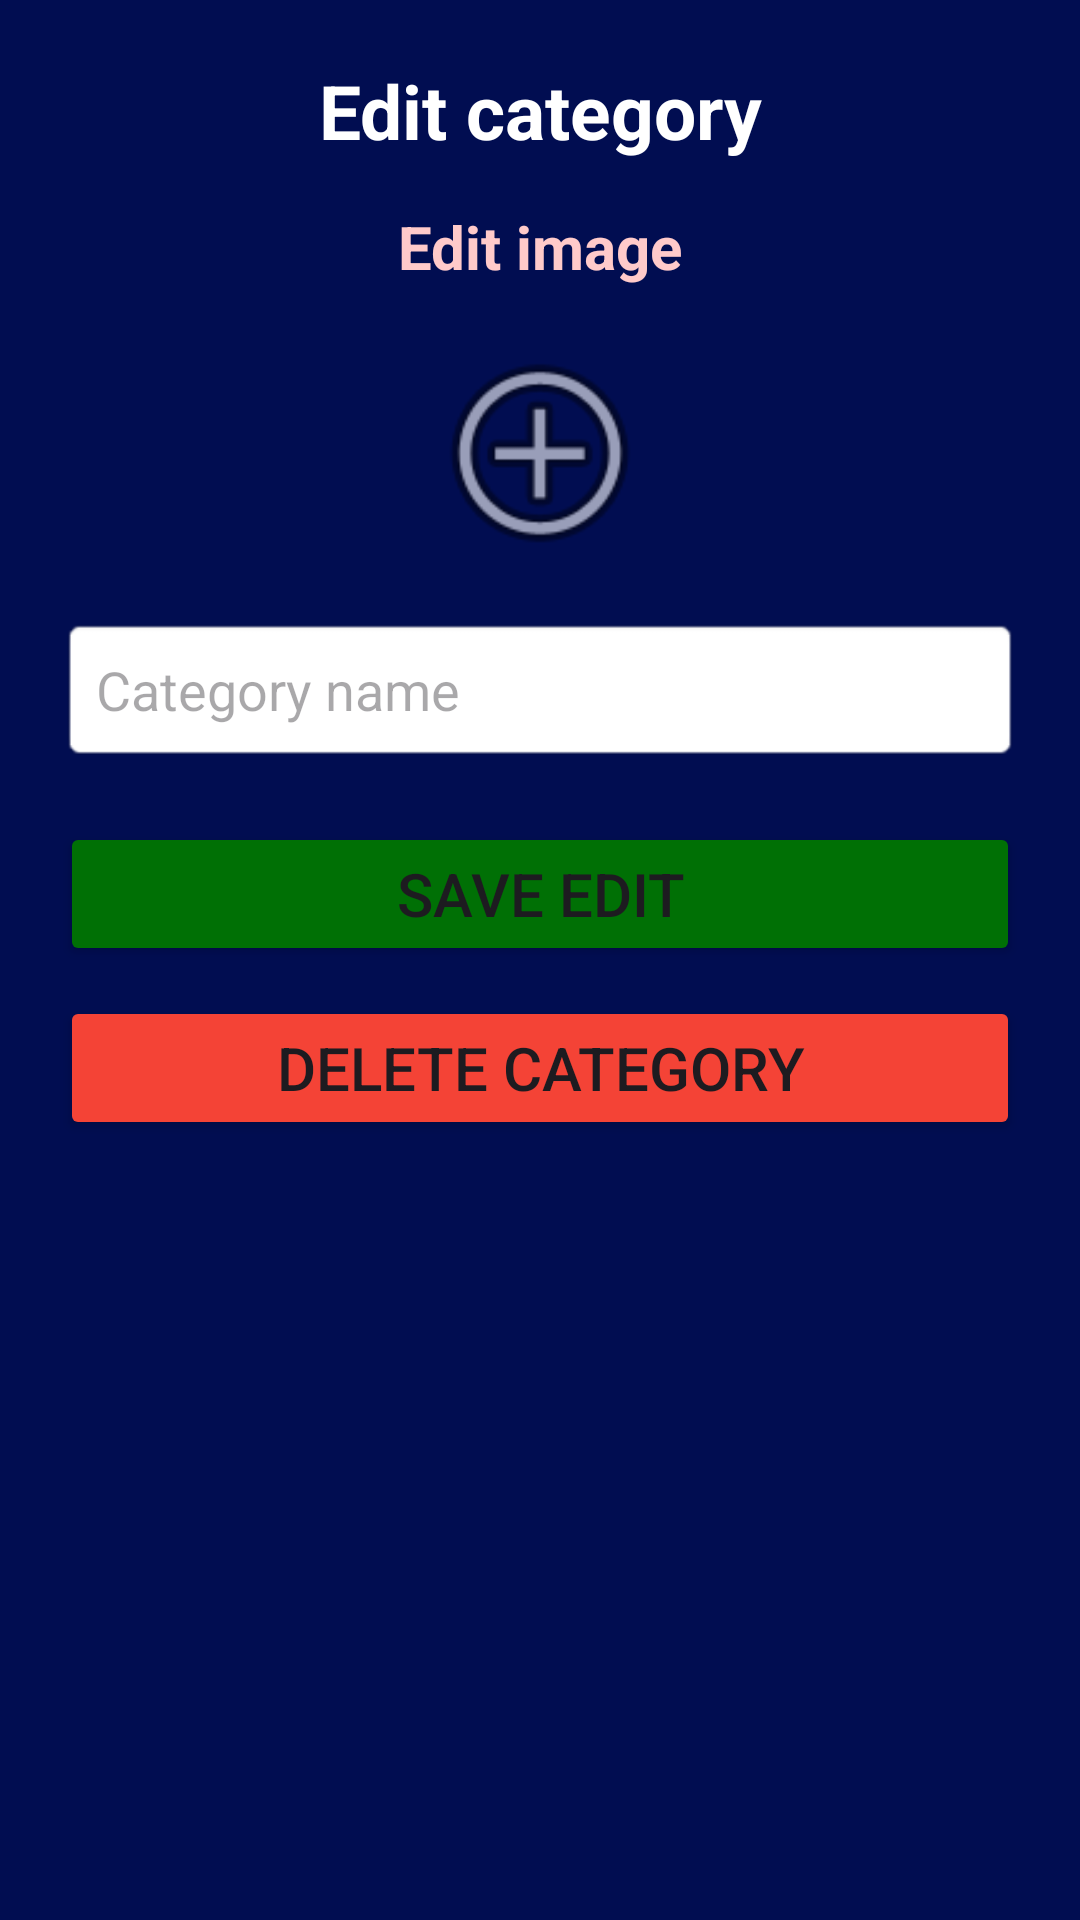

Point at icon controls on the screen. Image size 1080 × 1920, points as (x,y).
add: (540,453)
